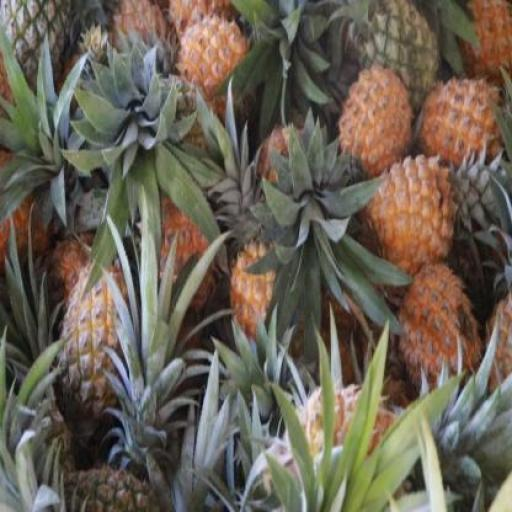------------------------------: (58, 272, 127, 425)
Pineapple - v8 v1: (394, 262, 484, 393), (366, 154, 452, 276), (340, 69, 417, 183), (419, 74, 502, 171), (175, 14, 248, 102)
